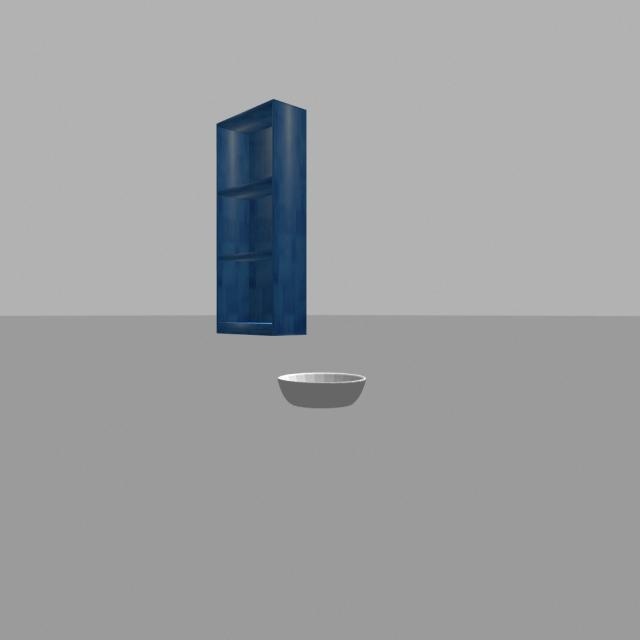bowl: (272, 361, 370, 415)
shelf: (205, 91, 314, 344)
